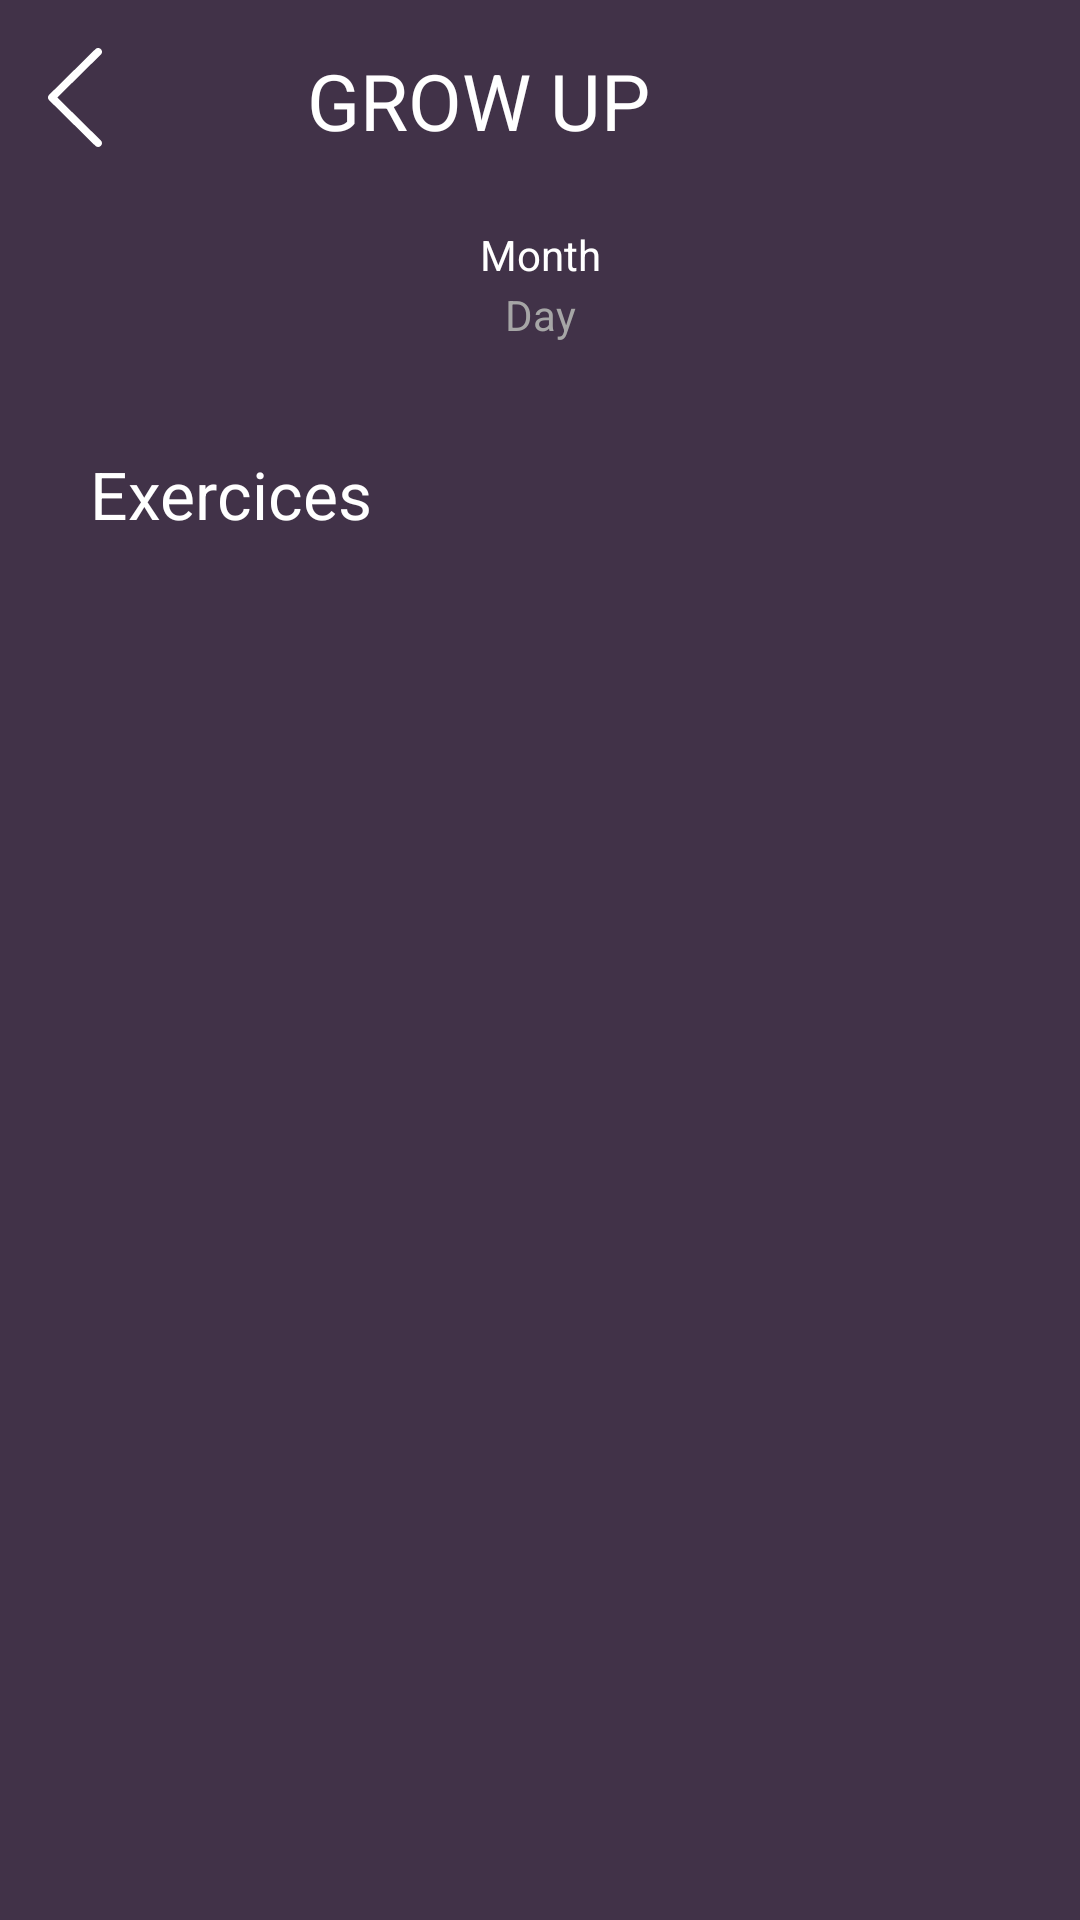

Locate icon controls on the screen. Image size 1080px x 1920px, boxes as {"left": x1, "top": y1, "right": x2, "bottom": y2}.
back: {"left": 48, "top": 48, "right": 102, "bottom": 147}
